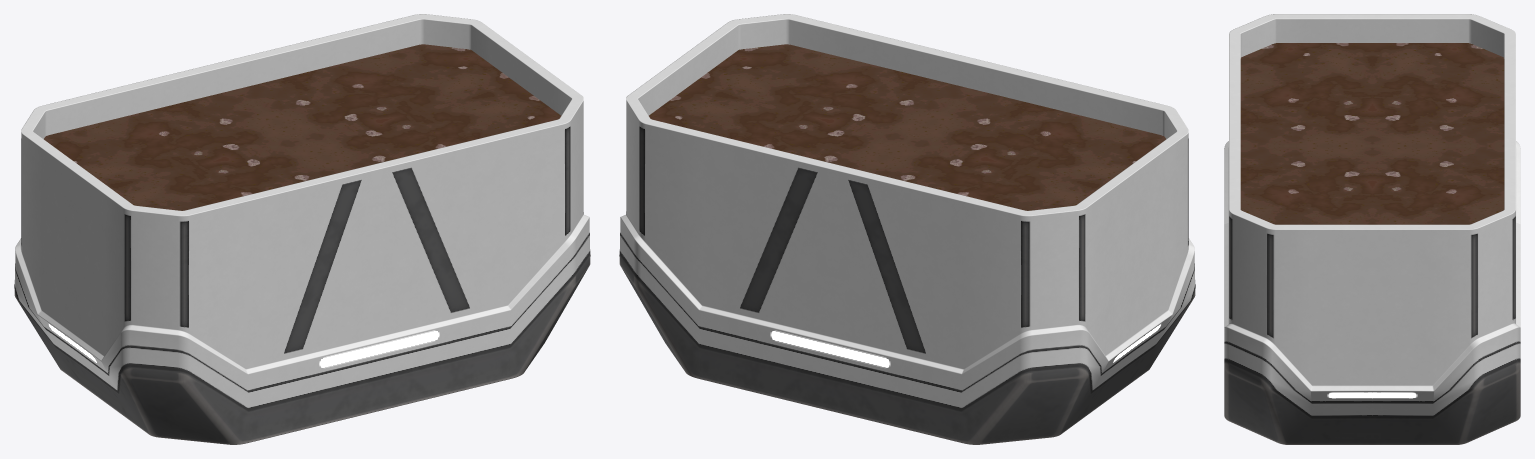
Rendered from Planter03_3.FBX.
The picture shows the model from 3 angles, left to right: view 1: azimuth 30°, elevation 25°; view 2: azimuth 150°, elevation 25°; view 3: azimuth 270°, elevation 25°; orthographic projection. The views are drawn at different scales.
Parts seen in each view (by area): view 1: Planter03_3; view 2: Planter03_3; view 3: Planter03_3.
Part boxes in pixels (x1,y1,x2,y2): Planter03_3: (14, 14, 590, 444); Planter03_3: (619, 14, 1195, 444); Planter03_3: (1224, 14, 1520, 444).
Size of what is drawn, in the model's own units: 1.06 by 0.5188 by 0.6041.
